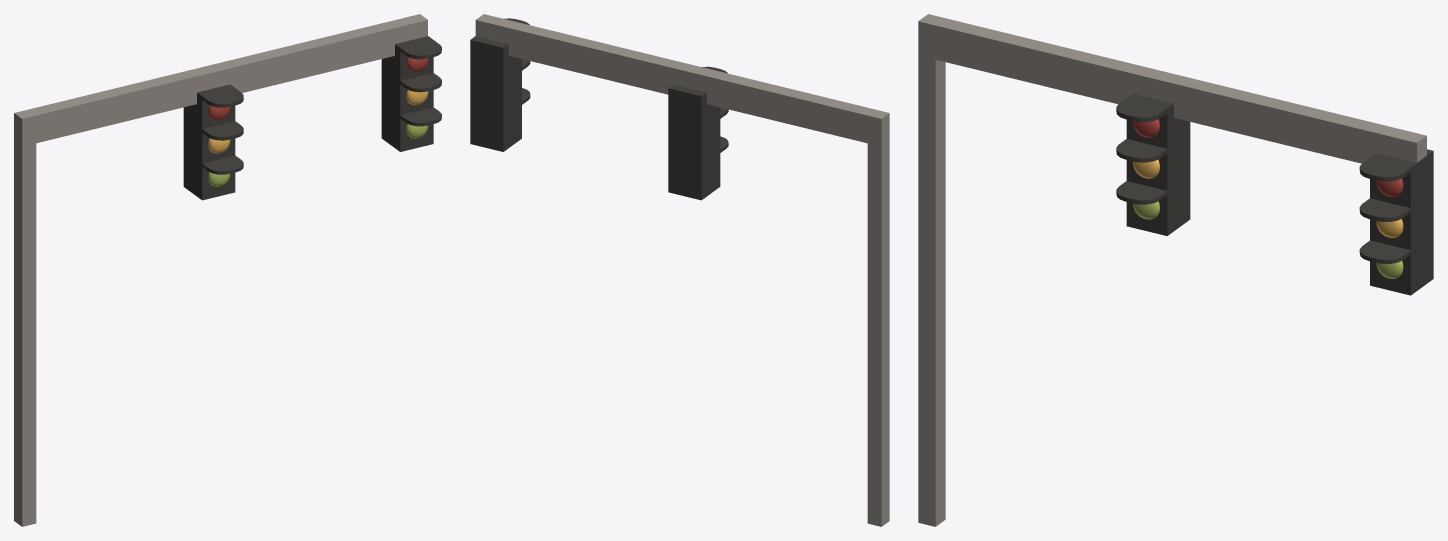
File: Ampel_2.fbx
3 views of the same model, side by side, from view 1: azimuth 30°, elevation 25°; view 2: azimuth 150°, elevation 25°; view 3: azimuth 330°, elevation 25° (orthographic). The views are drawn at different scales.
Visible parts, largest first — view 1: Cube.006; view 2: Cube.006; view 3: Cube.006.
Boxes of the visible parts, x1,y1,x2,y2 form: Cube.006: (14, 14, 441, 526); Cube.006: (470, 14, 889, 526); Cube.006: (918, 14, 1433, 526).
Bounding box in the file's own units: 5768 × 5538 × 804.
